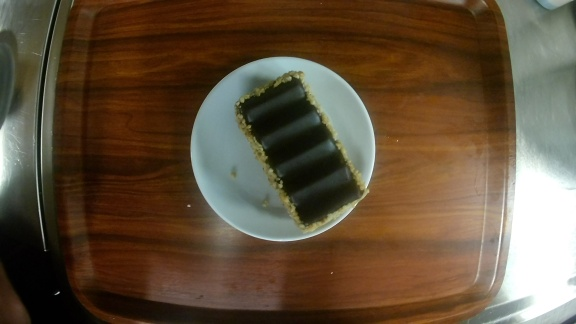muzlupasta: (188, 56, 376, 241)
